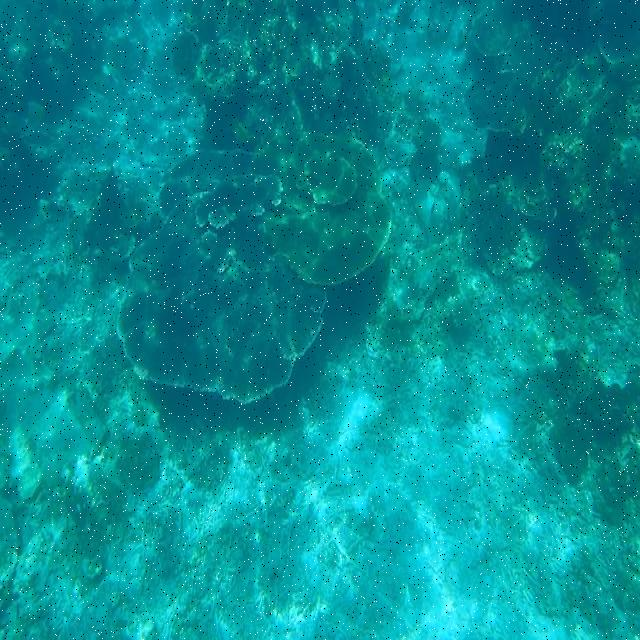reefs: (118, 131, 393, 404)
